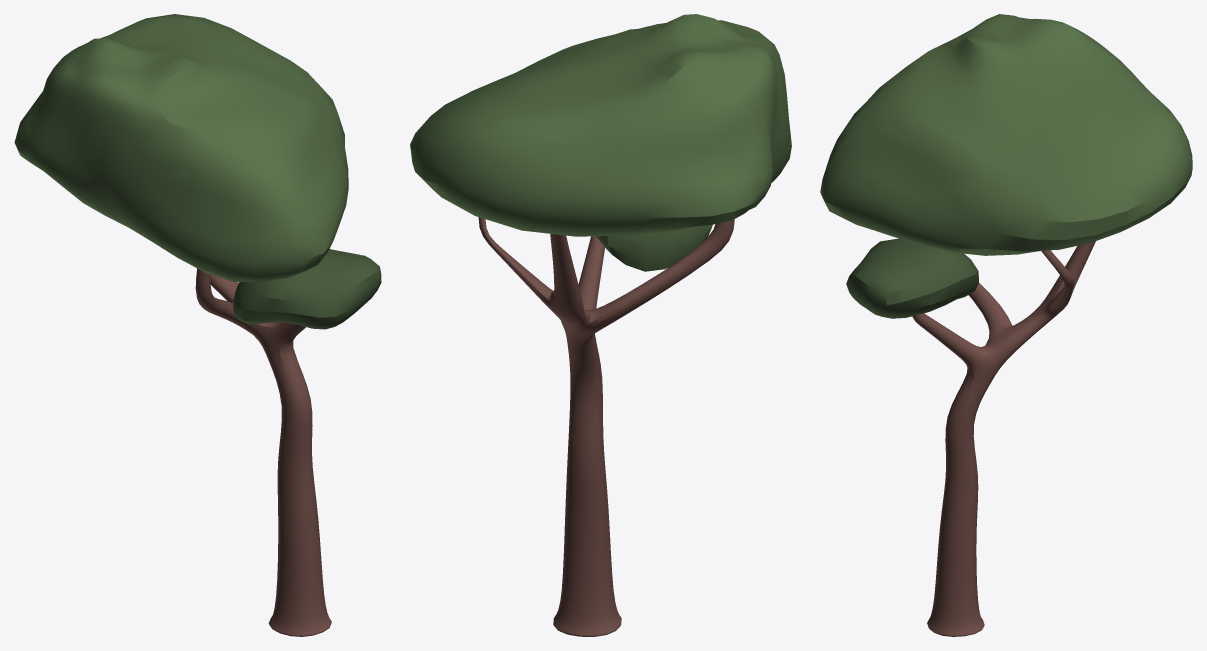
Rendered from Tree_4.fbx.
3 renders of one model, left to right at view 1: azimuth 30°, elevation 25°; view 2: azimuth 150°, elevation 25°; view 3: azimuth 270°, elevation 25°, orthographic. The views are drawn at different scales.
Parts seen in each view (by area): view 1: CommonTree_4; view 2: CommonTree_4; view 3: CommonTree_4.
Boxes of the visible parts, box(x1,y1,x2,y2) form: CommonTree_4: box(14, 14, 381, 636); CommonTree_4: box(410, 14, 791, 636); CommonTree_4: box(820, 14, 1192, 636).
Bounding box in the file's own units: 146 × 275 × 172.
